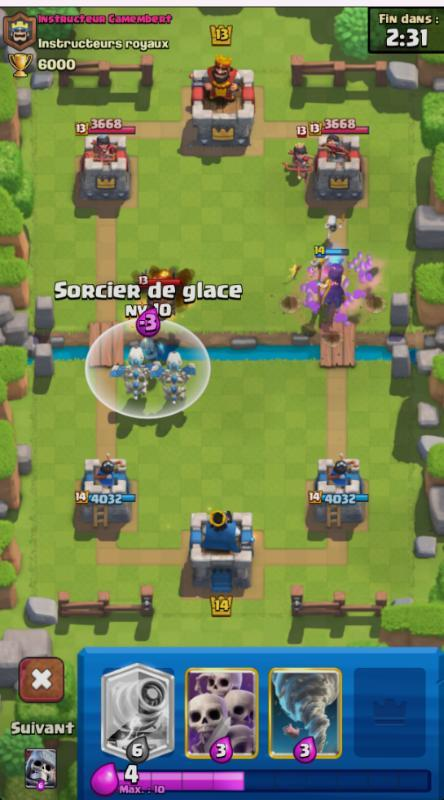enemy_princess: (279, 139, 315, 183)
player_skeleton_dragon: (108, 338, 159, 399), (154, 351, 199, 403)
player_skeletons: (315, 212, 347, 238)
player_witch: (308, 245, 356, 316)
